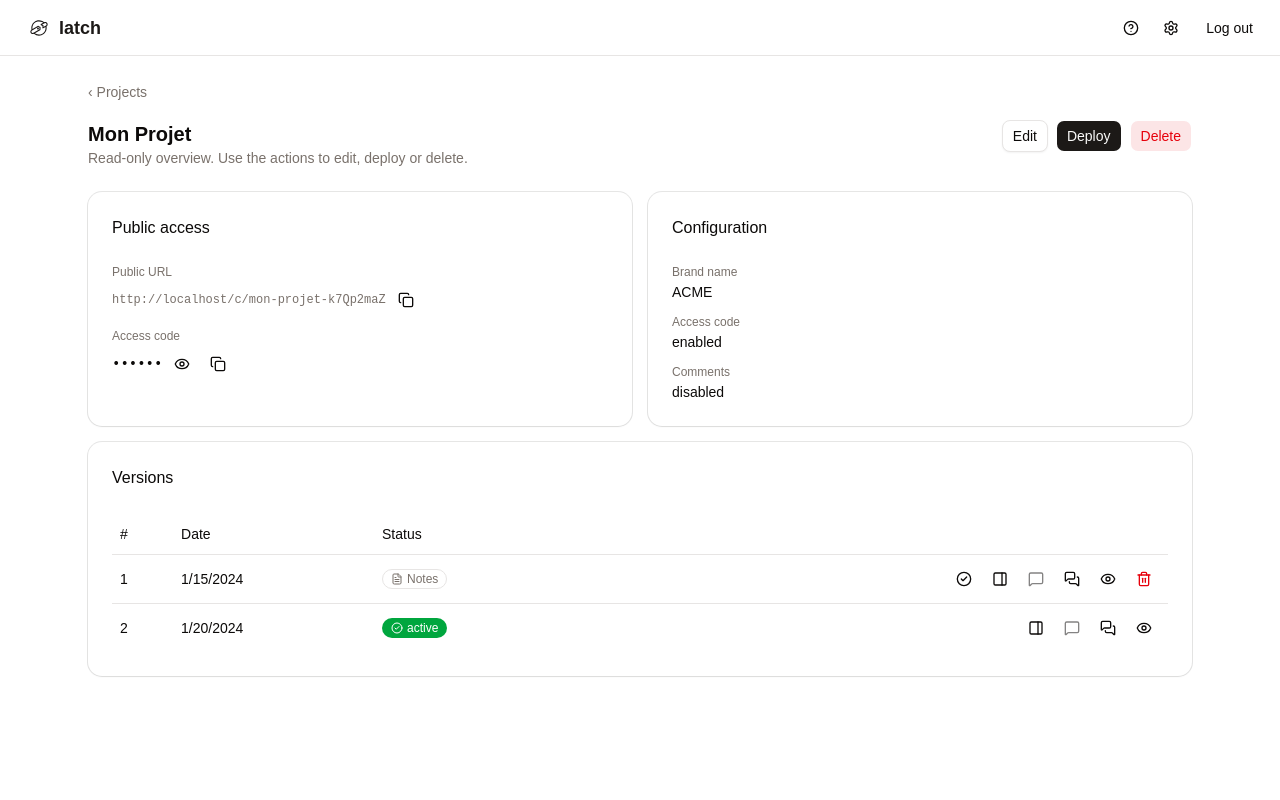
DetailPage › opens the deploy panel when the Deploy action is clicked
Expected: the heading "Mon Projet" is shown, x1=88 y1=123 x2=191 y2=145
Click the button "Deploy". click: (1089, 136)
box: x1=1056 y1=120 x2=1122 y2=152
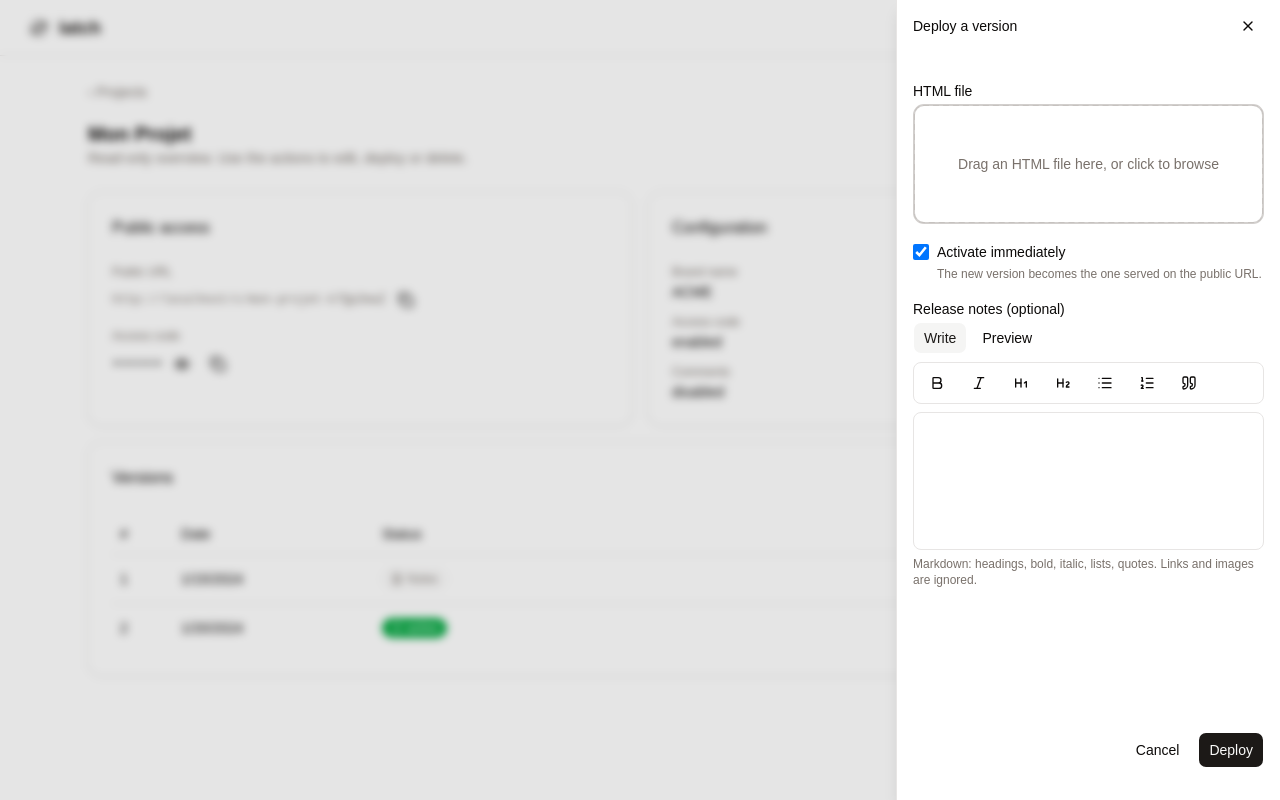
Result: the heading "Deploy a version" is shown at x1=913 y1=18 x2=1017 y2=34
